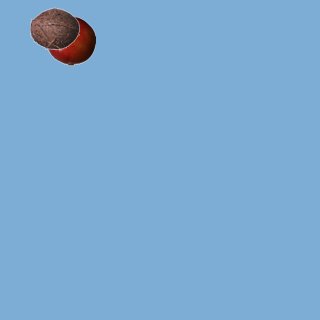Apple Braeburn: (45, 15, 95, 65)
Cocos: (29, 3, 79, 53)
